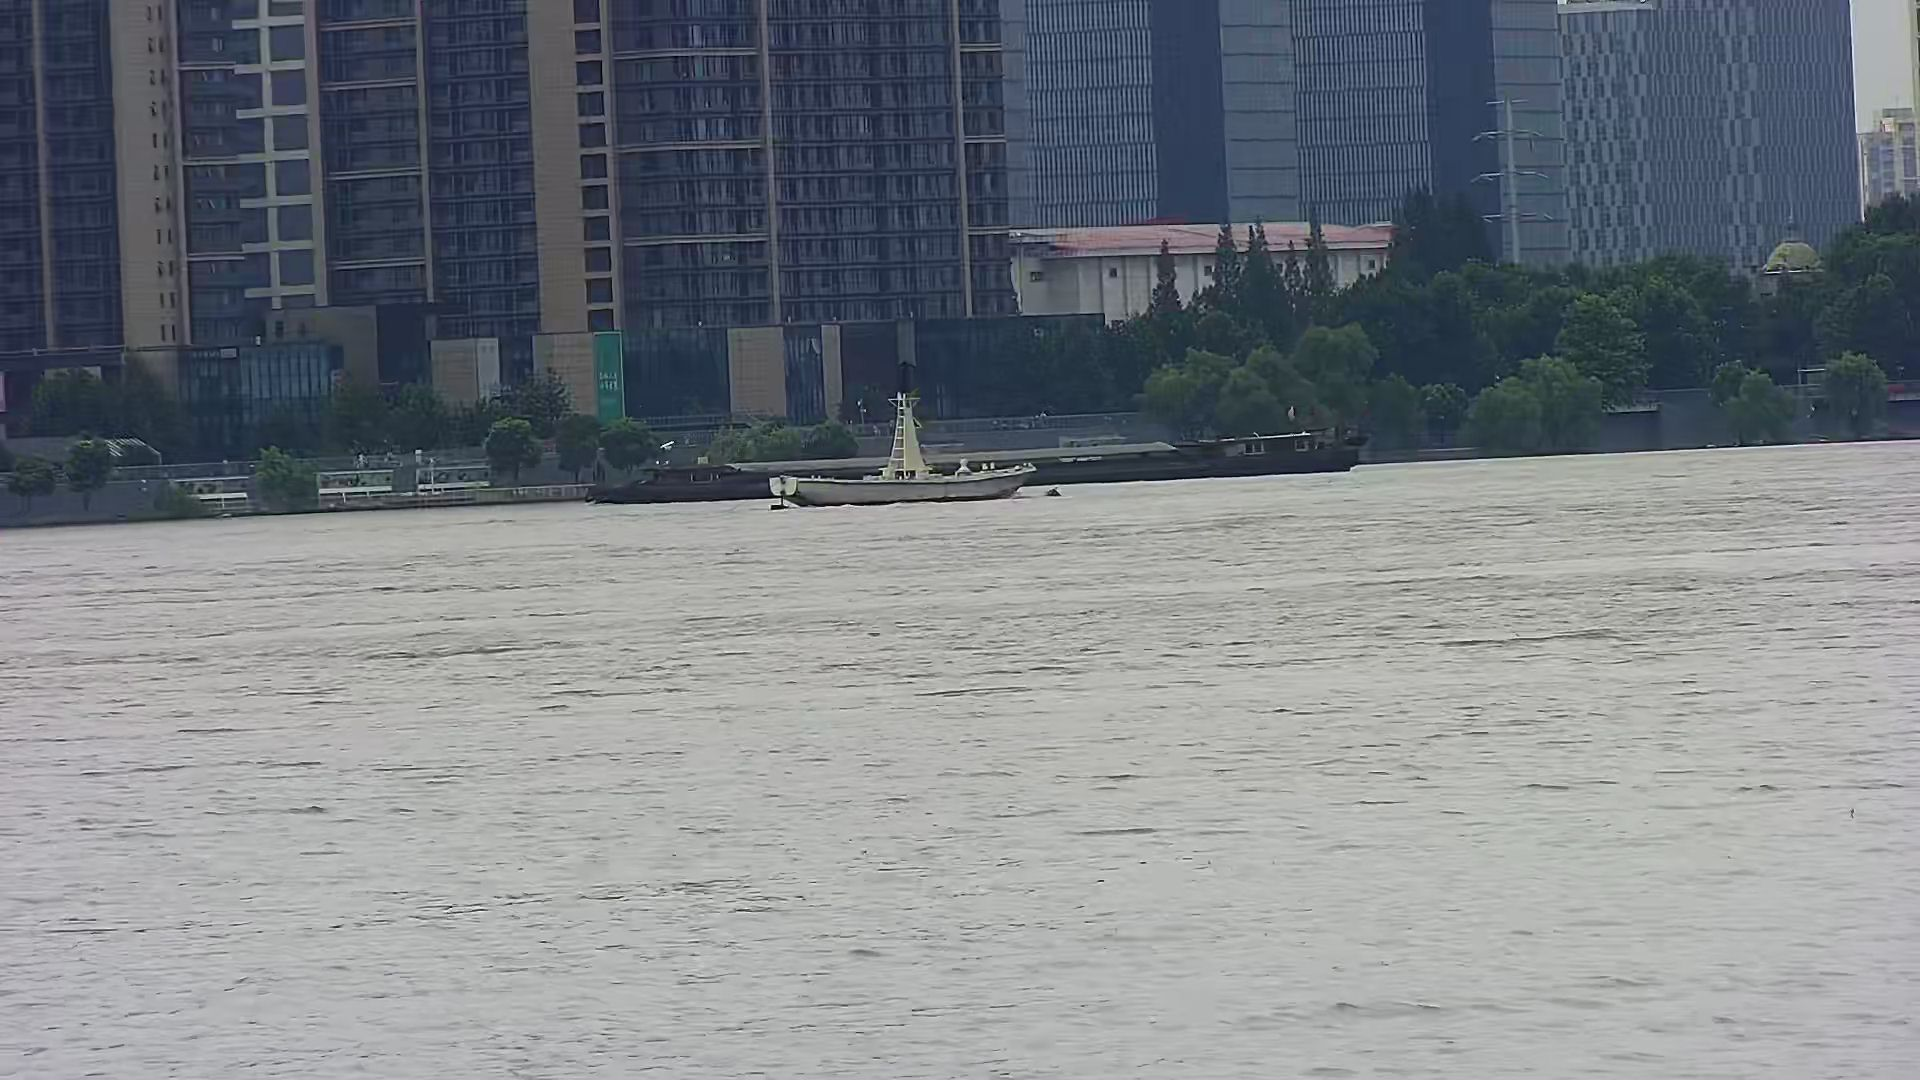boat: (766, 357, 1039, 504)
ship: (580, 429, 1373, 502)
